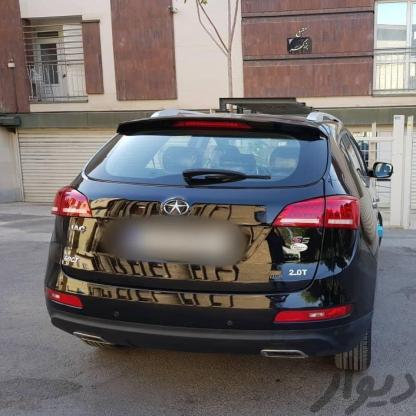Car: (49, 91, 385, 373)
